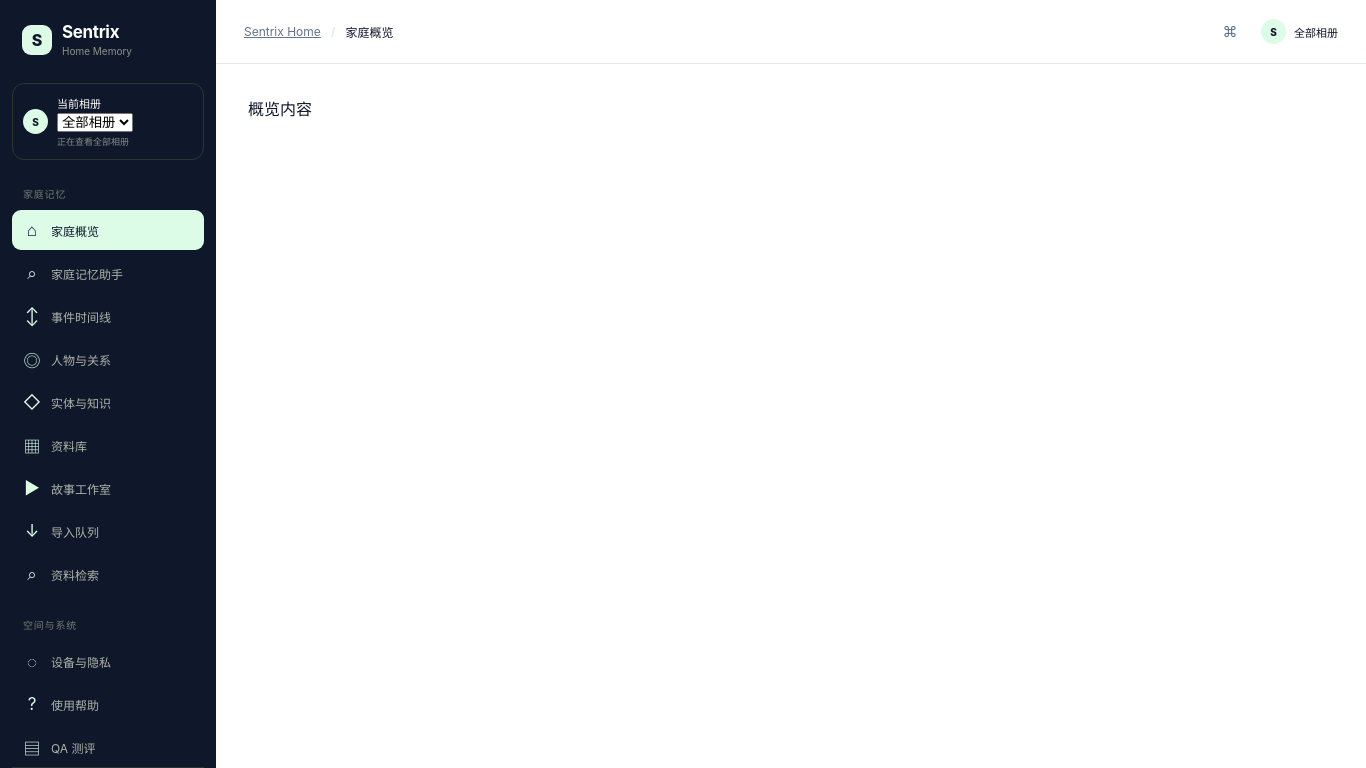
AppShell 壳层入口 › 侧栏使用帮助打开静态说明
Click the text "使用帮助". click: (75, 704)
box: [51,696,99,712]
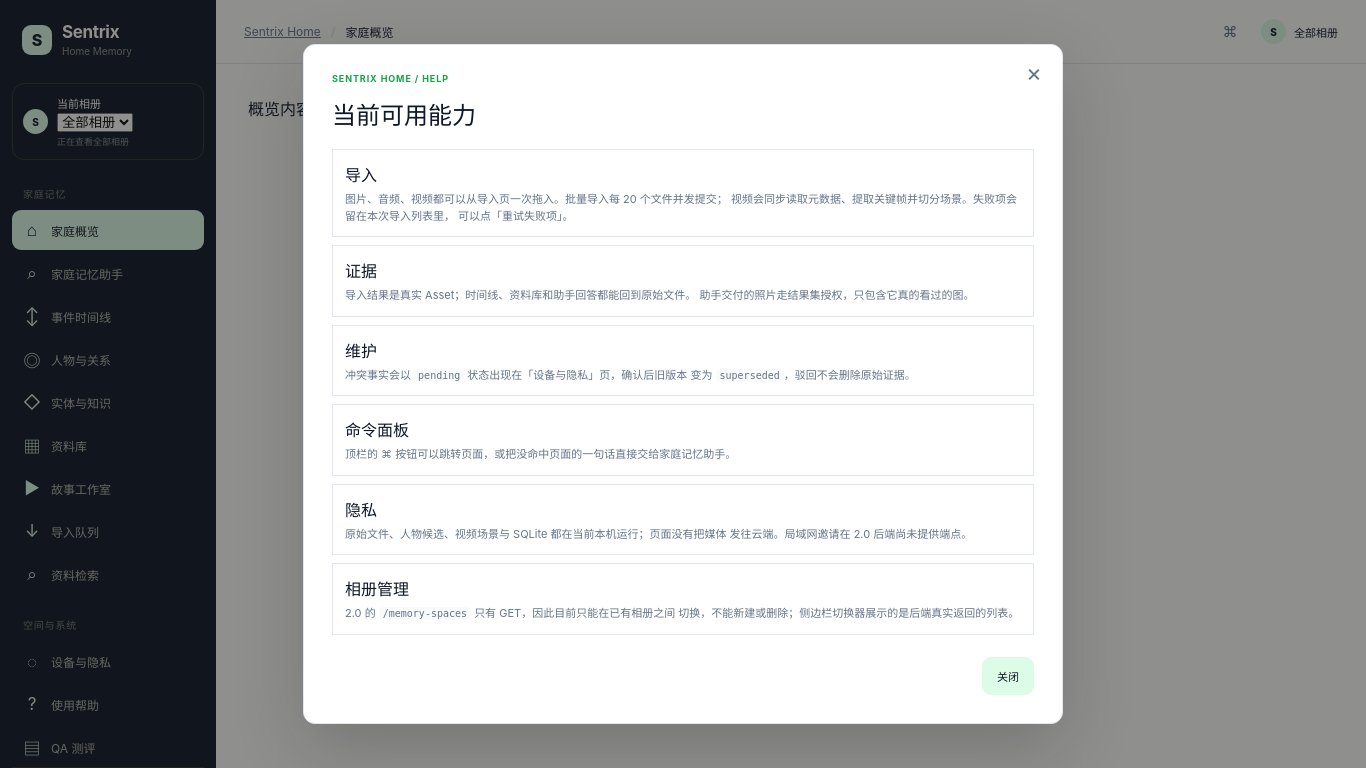
Check: the dialog "当前可用能力" shows "导入", box [345,165,377,185]
Check: the dialog "当前可用能力" shows "相册管理", box [345,579,409,599]
